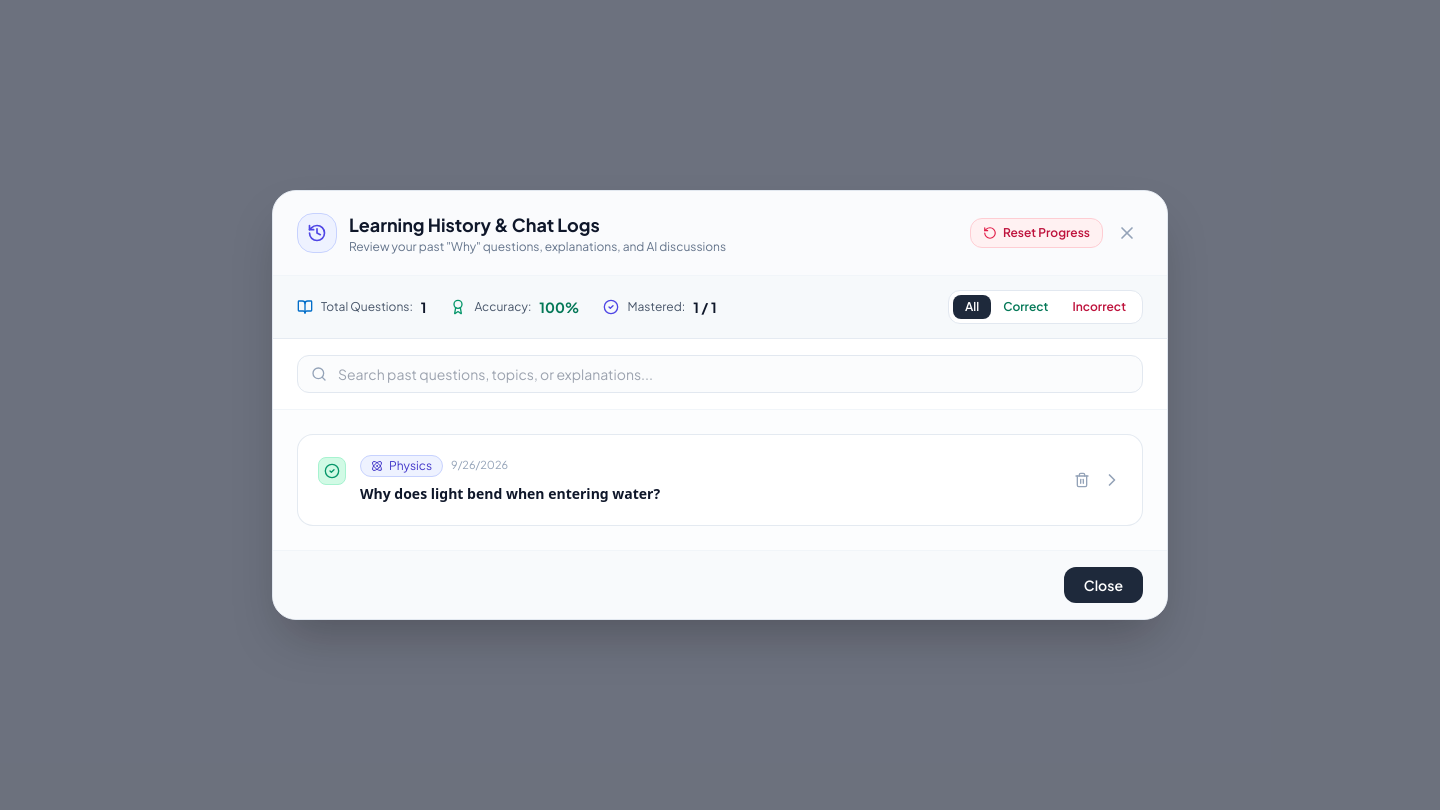
Test: HistoryModal Component › opens history detail modal and displays subtopic, angle, and angle fit
Click the text "Why does light bend when entering water?": click(510, 494) top-left (360, 483), bottom-right (660, 505)
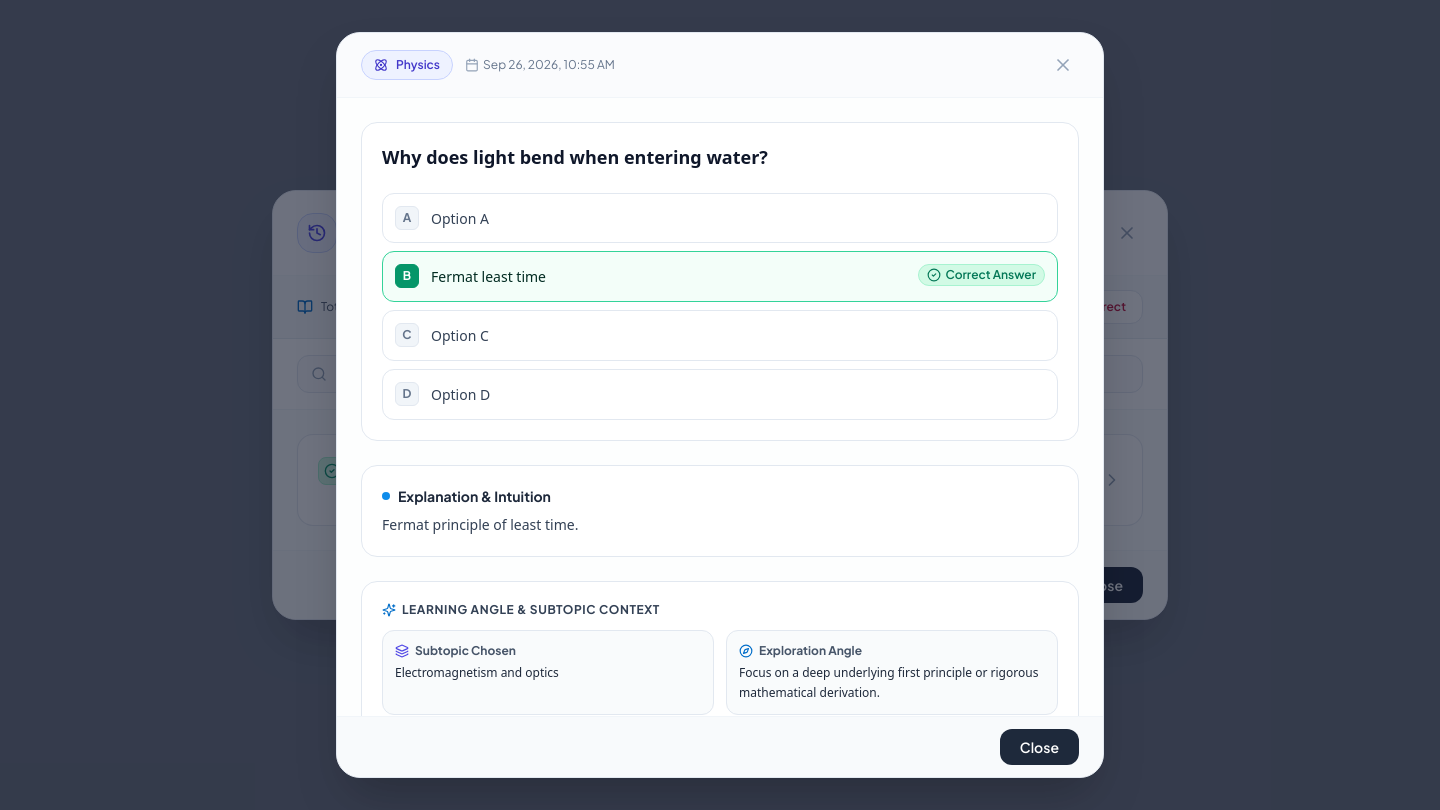
Check: the text "Subtopic Chosen" is shown, box top-left (415, 643), bottom-right (516, 659)
Check: the text "Electromagnetism and optics" is shown, box top-left (395, 663), bottom-right (559, 683)
Check: the text "Exploration Angle" is shown, box top-left (759, 643), bottom-right (862, 659)
